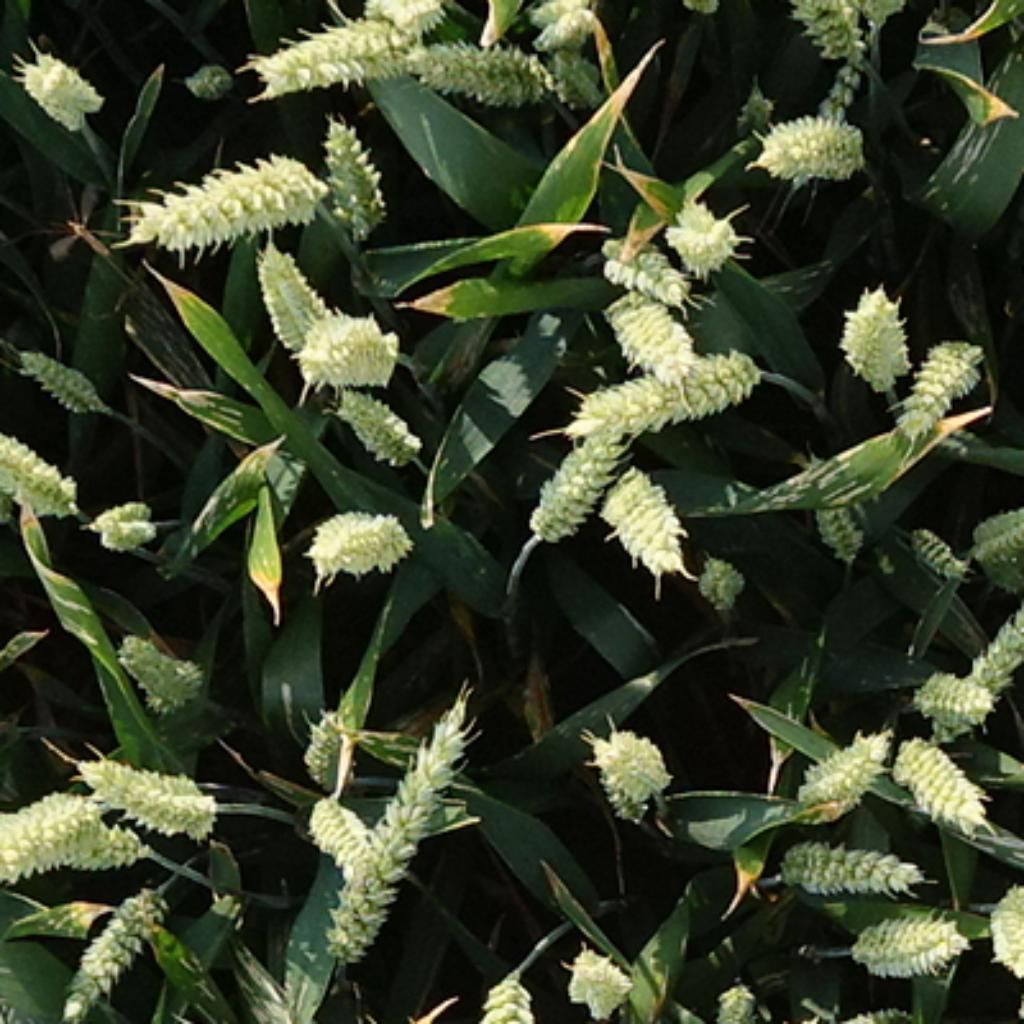0-0: (314, 691, 476, 957), (130, 135, 325, 250), (563, 348, 770, 437), (56, 878, 174, 1021), (245, 2, 432, 92), (929, 586, 1024, 747), (74, 755, 222, 839), (390, 35, 536, 116), (524, 417, 622, 537), (768, 826, 924, 896), (890, 325, 988, 435), (593, 455, 686, 568), (291, 299, 404, 389), (307, 785, 389, 906), (885, 732, 988, 826), (2, 814, 151, 878), (2, 785, 97, 883), (104, 627, 207, 716), (250, 232, 332, 343), (299, 501, 417, 578), (314, 107, 389, 227), (750, 115, 890, 179), (842, 906, 967, 977), (586, 729, 675, 826), (834, 273, 913, 381), (791, 729, 890, 814), (327, 373, 422, 460), (2, 417, 84, 517), (7, 48, 99, 135), (12, 345, 115, 422), (601, 286, 696, 366), (799, 454, 868, 562), (660, 189, 742, 268), (596, 225, 686, 296), (906, 657, 995, 724), (563, 934, 634, 1011), (778, 2, 867, 61), (965, 488, 1024, 573), (896, 514, 965, 578), (87, 494, 161, 552), (476, 960, 542, 1024), (983, 872, 1024, 970), (688, 545, 750, 606), (296, 714, 358, 773), (525, 3, 600, 47), (179, 48, 238, 97), (542, 60, 600, 108), (711, 972, 760, 1024), (821, 1000, 919, 1024), (375, 0, 441, 27), (739, 92, 773, 125)
